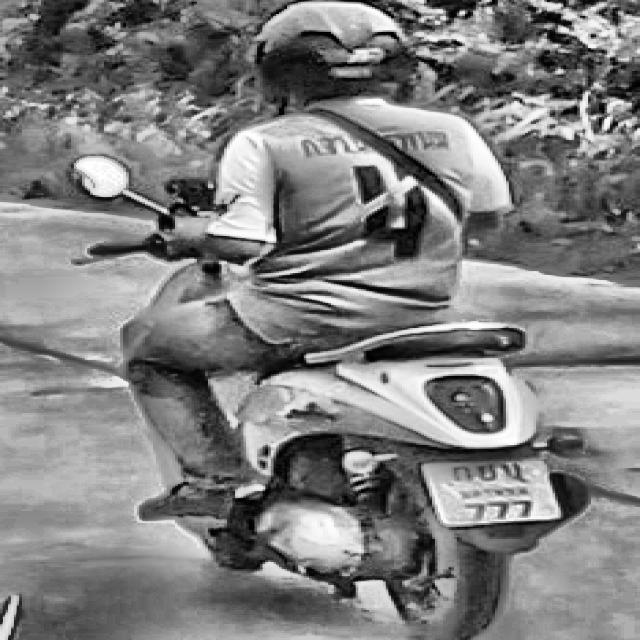Helmet: (245, 0, 448, 121)
